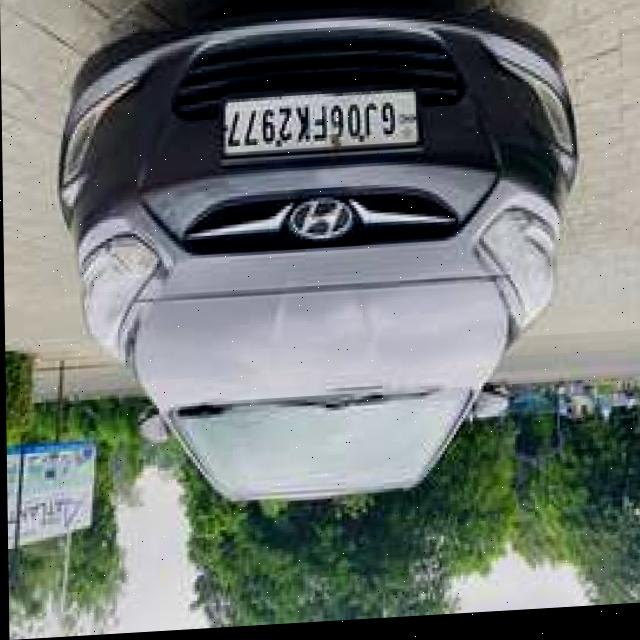plate: (219, 93, 419, 166)
